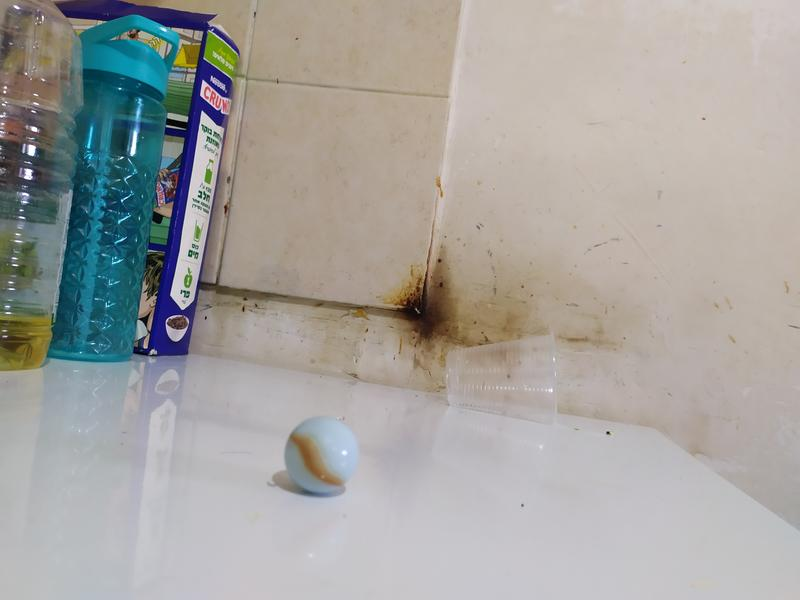Warning: (282, 413, 363, 498)
